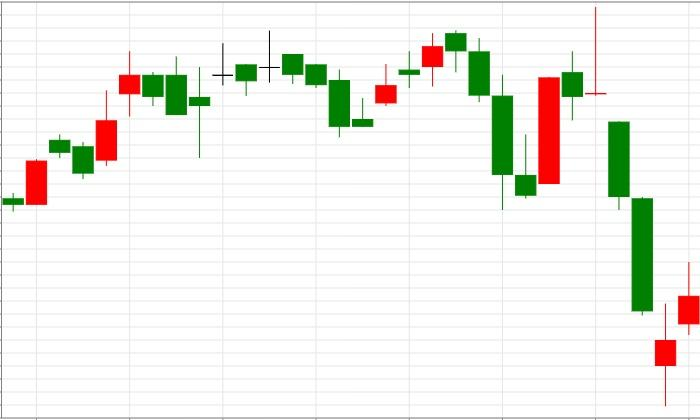three_black_crows_fall: (328, 29, 513, 209)
